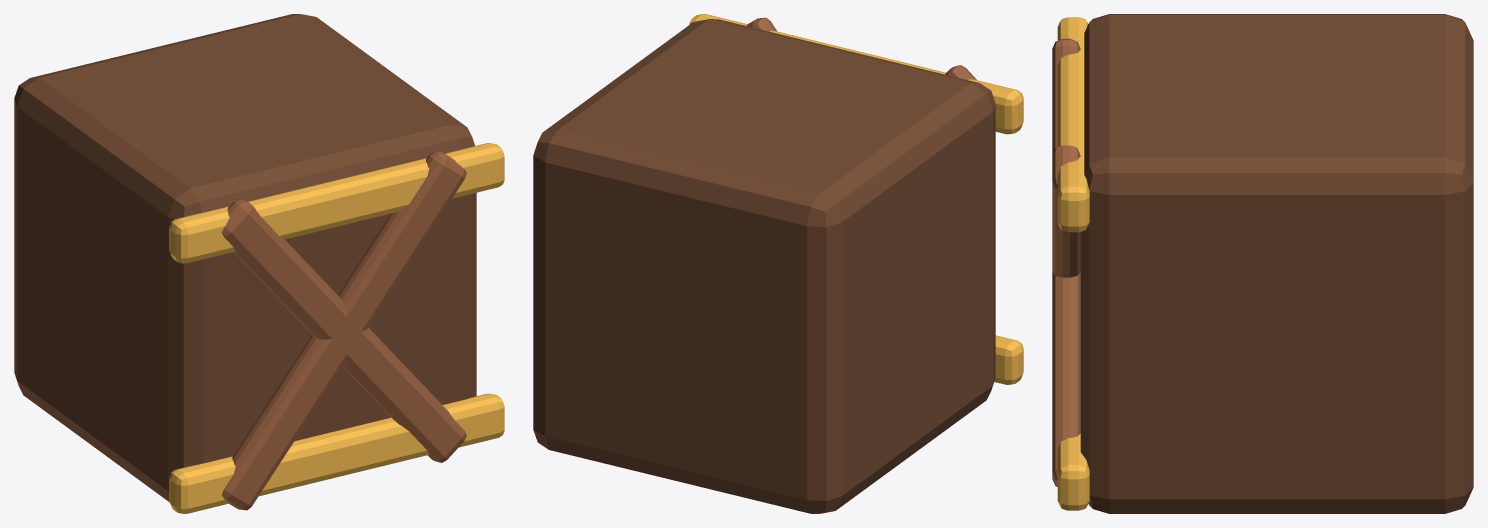
Rendered from crate.glb.
The picture shows the model from 3 angles, left to right: view 1: azimuth 30°, elevation 25°; view 2: azimuth 150°, elevation 25°; view 3: azimuth 270°, elevation 25°; orthographic projection. The views are drawn at different scales.
Visible parts, largest first — view 1: BreakableCrateMesh; view 2: BreakableCrateMesh; view 3: BreakableCrateMesh.
Part boxes in pixels (x1,y1,x2,y2): BreakableCrateMesh: (14,14,504,513); BreakableCrateMesh: (533,14,1023,513); BreakableCrateMesh: (1052,14,1473,513).
Size of the model in its own units: 1.18 by 1.1 by 1.18.
